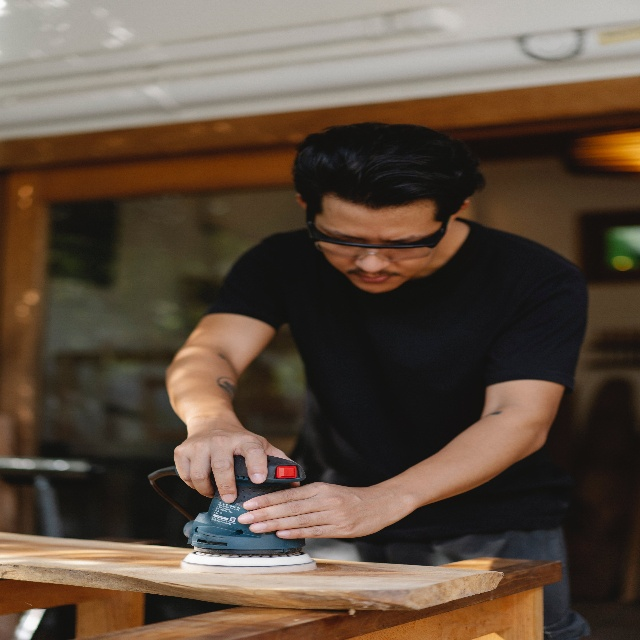Gafas: (305, 217, 448, 259)
Sin_guantes: (173, 419, 301, 504), (237, 481, 384, 539)
